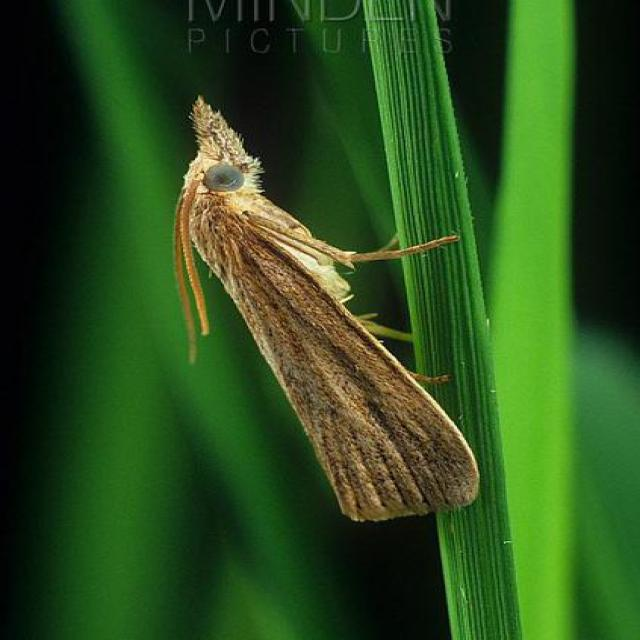yellow-stem-borer: (145, 91, 548, 594)
